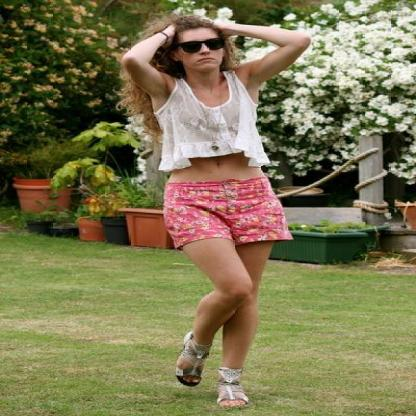shirt: (138, 75, 270, 171)
shoe: (176, 330, 248, 405)
shorts: (162, 177, 292, 249)
sunglass: (197, 28, 224, 50)
